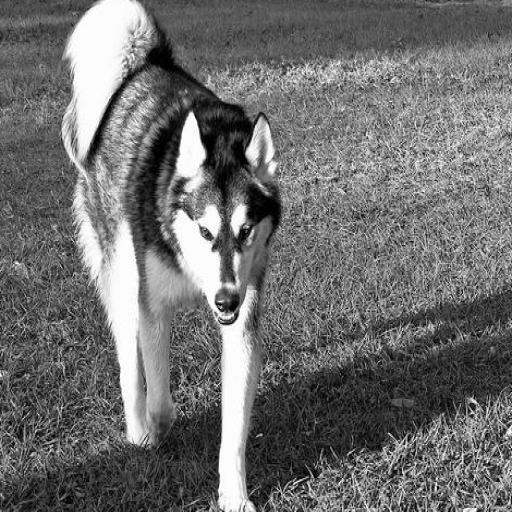dog_face: (174, 115, 284, 326)
